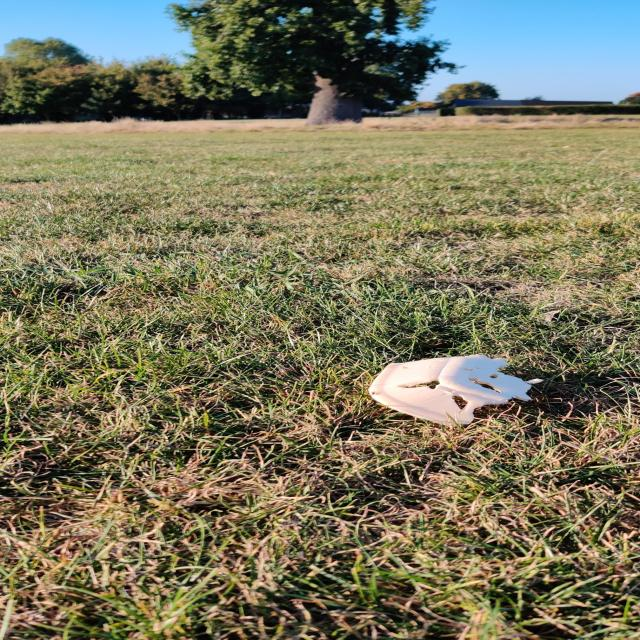litter: (367, 354, 544, 427)
